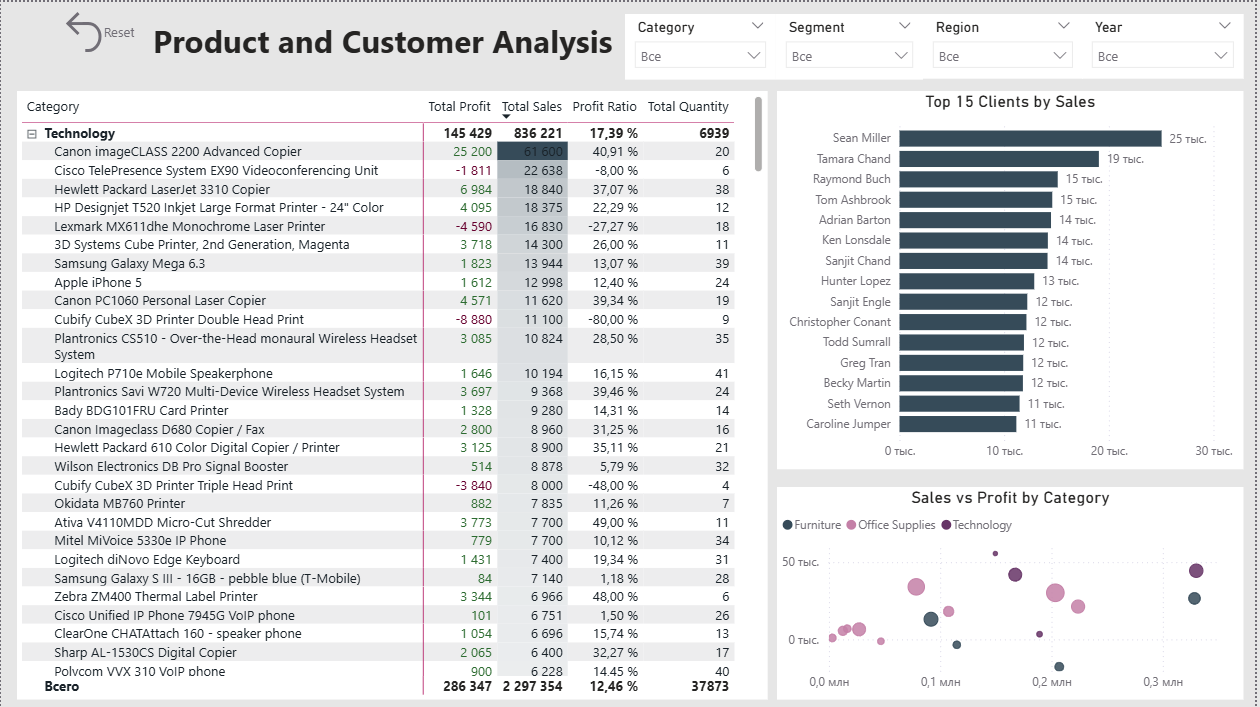

This screenshot's page, from the dashboard's own definition file:
{"tool":"powerbi","page":{"name":"Product and Customer Analysis","canvas":[1280,720],"ordinal":2},"visuals":[{"type":"pivotTable","fields":{"Rows":["Sample - Superstore_Orders.Category","Sample - Superstore_Orders.Product Name"],"Values":["Sample - Superstore_Orders.Total Profit","Sample - Superstore_Orders.Total Sales","Sample - Superstore_Orders.Profit Ratio","Sample - Superstore_Orders.Total Quantity"]},"box":[16.2,90.9,766.2,620.8],"z":0},{"type":"textbox","box":[150.4,12.1,485.6,66.6],"z":1000},{"type":"barChart","title":"Top 15 Clients by Sales","fields":{"Y":["Sample - Superstore_Orders.Total Sales"],"Category":["Sample - Superstore_Orders.Customer Name"]},"box":[791.4,90.9,476.5,385.6],"z":2000},{"type":"scatterChart","title":"Sales vs Profit by Category","fields":{"X":["Sample - Superstore_Orders.Total Sales"],"Y":["Sample - Superstore_Orders.Total Profit"],"Size":["Sample - Superstore_Orders.Total Quantity"],"Series":["Sample - Superstore_Orders.Category"],"Category":["Sample - Superstore_Orders.Sub-Category"]},"box":[791.4,494.6,476.5,217],"z":3000},{"type":"slicer","fields":{"Values":["Calendar.Year"]},"box":[1103.3,12.1,164.5,65.6],"z":3001},{"type":"slicer","fields":{"Values":["Sample - Superstore_Orders.Region"]},"box":[940.8,12.1,162.5,65.6],"z":3002},{"type":"slicer","fields":{"Values":["Sample - Superstore_Orders.Segment"]},"box":[790.4,12.1,150.4,66.6],"z":3003},{"type":"slicer","fields":{"Values":["Sample - Superstore_Orders.Category"]},"box":[637,12.1,154.4,66.6],"z":3004},{"type":"actionButton","box":[58.6,4.5,82.3,53],"z":3005}]}

Visuals, with their boxes in screenshot pixels (x1, y1, x2, y2), scaled from the page's 1280x720 canvas onto the 1260x707 screenshot:
pivotTable - Sample - Superstore_Orders.Category x Sample - Superstore_Orders.Product Name: 16:89:770:699
textbox: 148:12:626:77
"Top 15 Clients by Sales" barChart: 779:89:1248:468
"Sales vs Profit by Category" scatterChart: 779:486:1248:699
slicer - Calendar.Year: 1086:12:1248:76
slicer - Sample - Superstore_Orders.Region: 926:12:1086:76
slicer - Sample - Superstore_Orders.Segment: 778:12:926:77
slicer - Sample - Superstore_Orders.Category: 627:12:779:77
actionButton: 58:4:139:56
